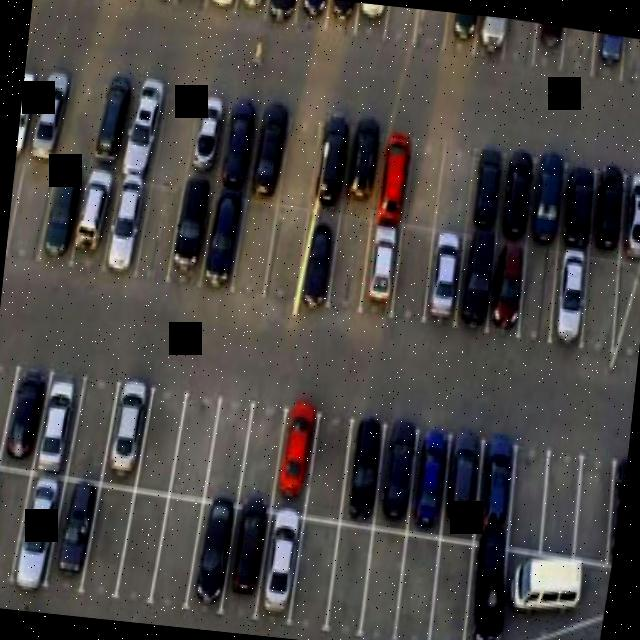car: (8, 474, 65, 592), (256, 514, 308, 626), (270, 402, 322, 514), (220, 508, 272, 617), (489, 138, 543, 242), (187, 496, 235, 612), (29, 373, 80, 482), (0, 362, 49, 474), (437, 434, 484, 549), (51, 476, 97, 592), (101, 384, 152, 487), (293, 209, 344, 312), (543, 248, 594, 350), (455, 545, 508, 640), (200, 185, 246, 294), (38, 158, 84, 267), (90, 67, 136, 176), (212, 92, 260, 196), (169, 170, 215, 278), (119, 70, 164, 180), (338, 111, 385, 216), (452, 228, 499, 331), (522, 149, 570, 249), (103, 175, 151, 274), (473, 442, 518, 547), (372, 425, 417, 528), (71, 168, 116, 271), (584, 165, 633, 259), (369, 118, 414, 220), (556, 155, 602, 254), (461, 140, 508, 236), (183, 84, 227, 186), (244, 102, 291, 196), (24, 66, 70, 162), (406, 432, 451, 528), (485, 235, 530, 331), (341, 419, 384, 518), (421, 222, 464, 321), (310, 112, 350, 212), (358, 216, 398, 309), (598, 457, 627, 580), (15, 64, 42, 164), (526, 22, 570, 75), (584, 31, 628, 84), (616, 168, 640, 258), (438, 12, 482, 61), (346, 1, 392, 46), (470, 14, 510, 62), (320, 0, 362, 42), (258, 0, 298, 38), (292, 0, 335, 32), (234, 0, 273, 31), (201, 0, 243, 18), (171, 0, 213, 13), (110, 0, 152, 9), (144, 0, 180, 8)
free: (116, 487, 170, 605), (325, 518, 377, 634), (80, 483, 132, 595), (303, 414, 355, 526), (132, 391, 187, 492), (288, 520, 340, 626), (422, 537, 475, 640), (533, 449, 583, 558), (6, 147, 56, 256), (360, 528, 408, 640), (151, 82, 203, 185), (504, 438, 550, 554), (392, 532, 441, 640), (202, 403, 253, 506), (154, 502, 202, 611), (398, 126, 446, 231), (569, 458, 615, 567), (326, 207, 372, 316), (430, 135, 480, 235), (172, 398, 220, 501), (236, 405, 284, 508), (231, 196, 279, 299), (264, 196, 310, 300), (134, 182, 184, 276), (54, 66, 102, 162), (277, 114, 326, 208), (70, 382, 114, 482), (577, 260, 619, 362), (517, 237, 560, 336), (390, 223, 433, 317), (606, 259, 640, 364), (0, 461, 25, 578), (494, 17, 542, 70), (558, 27, 602, 82), (381, 5, 422, 43), (0, 367, 15, 468), (413, 8, 449, 49), (616, 35, 640, 82)
